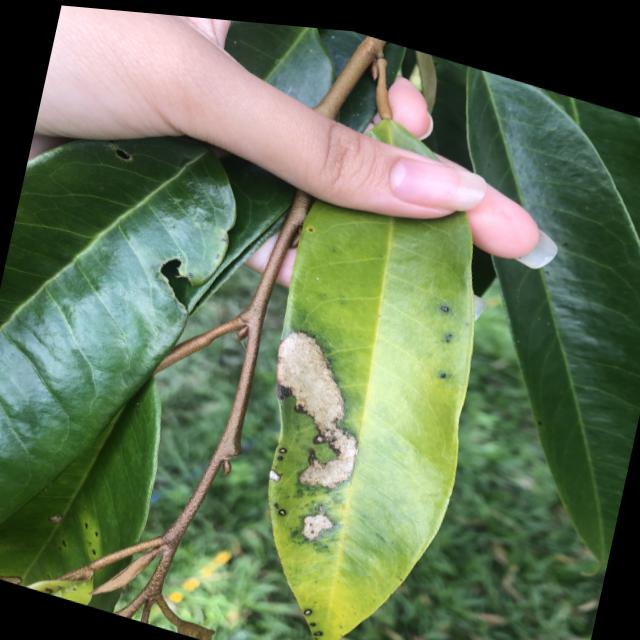Leaf Spot: (230, 298, 417, 559)
